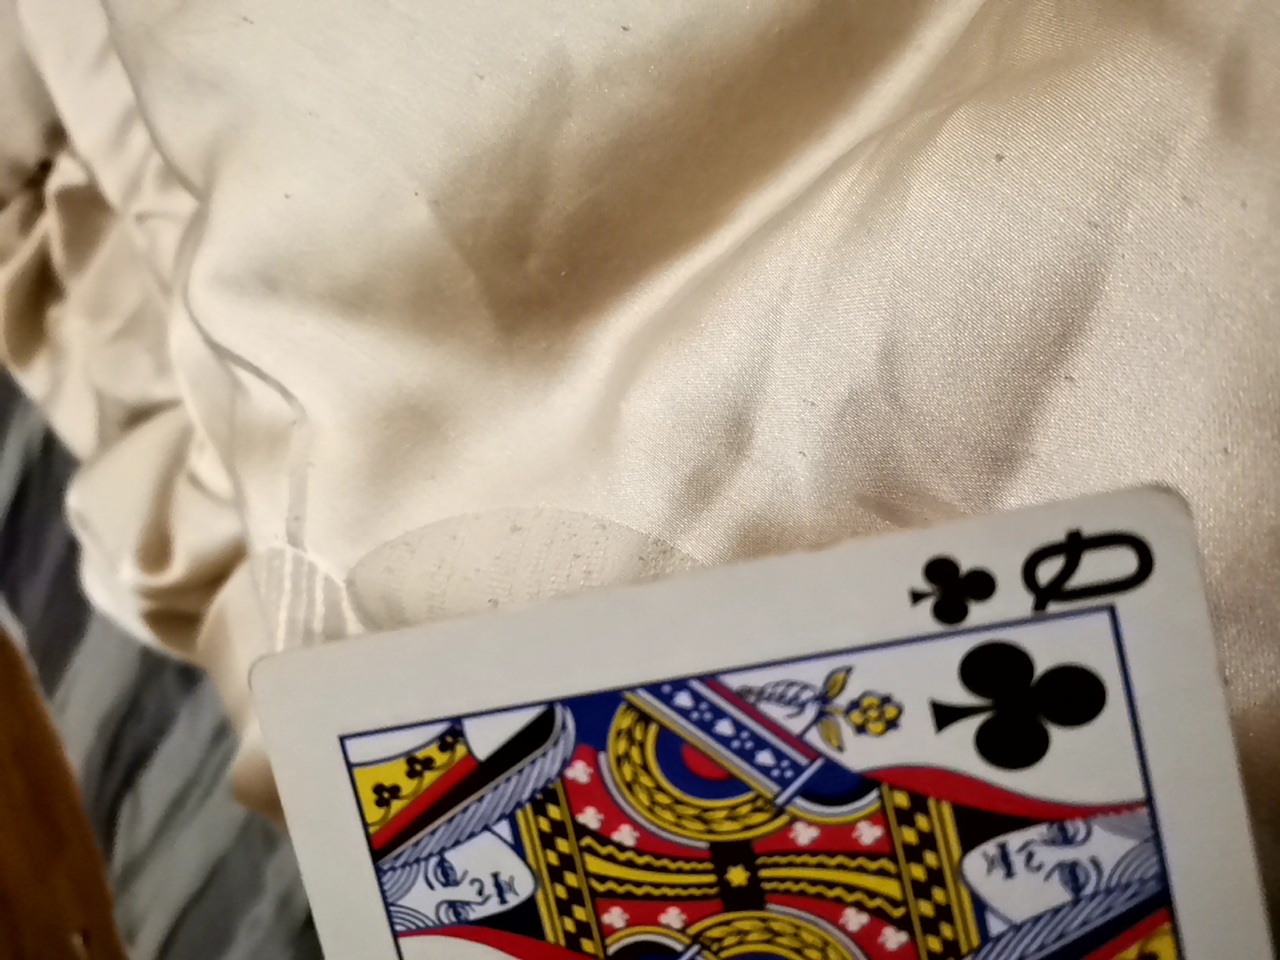mh q: (221, 495, 1271, 957)
